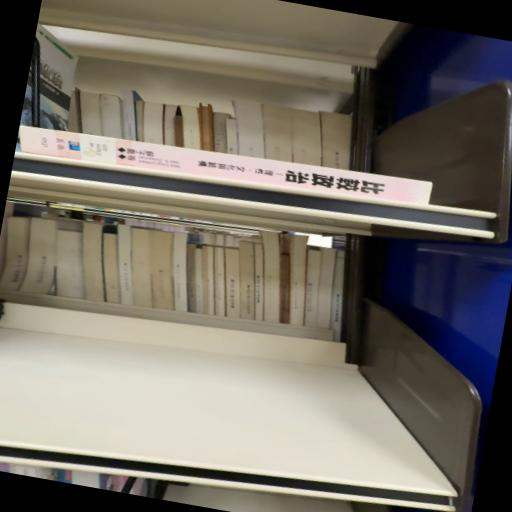flat: (19, 127, 432, 207)
